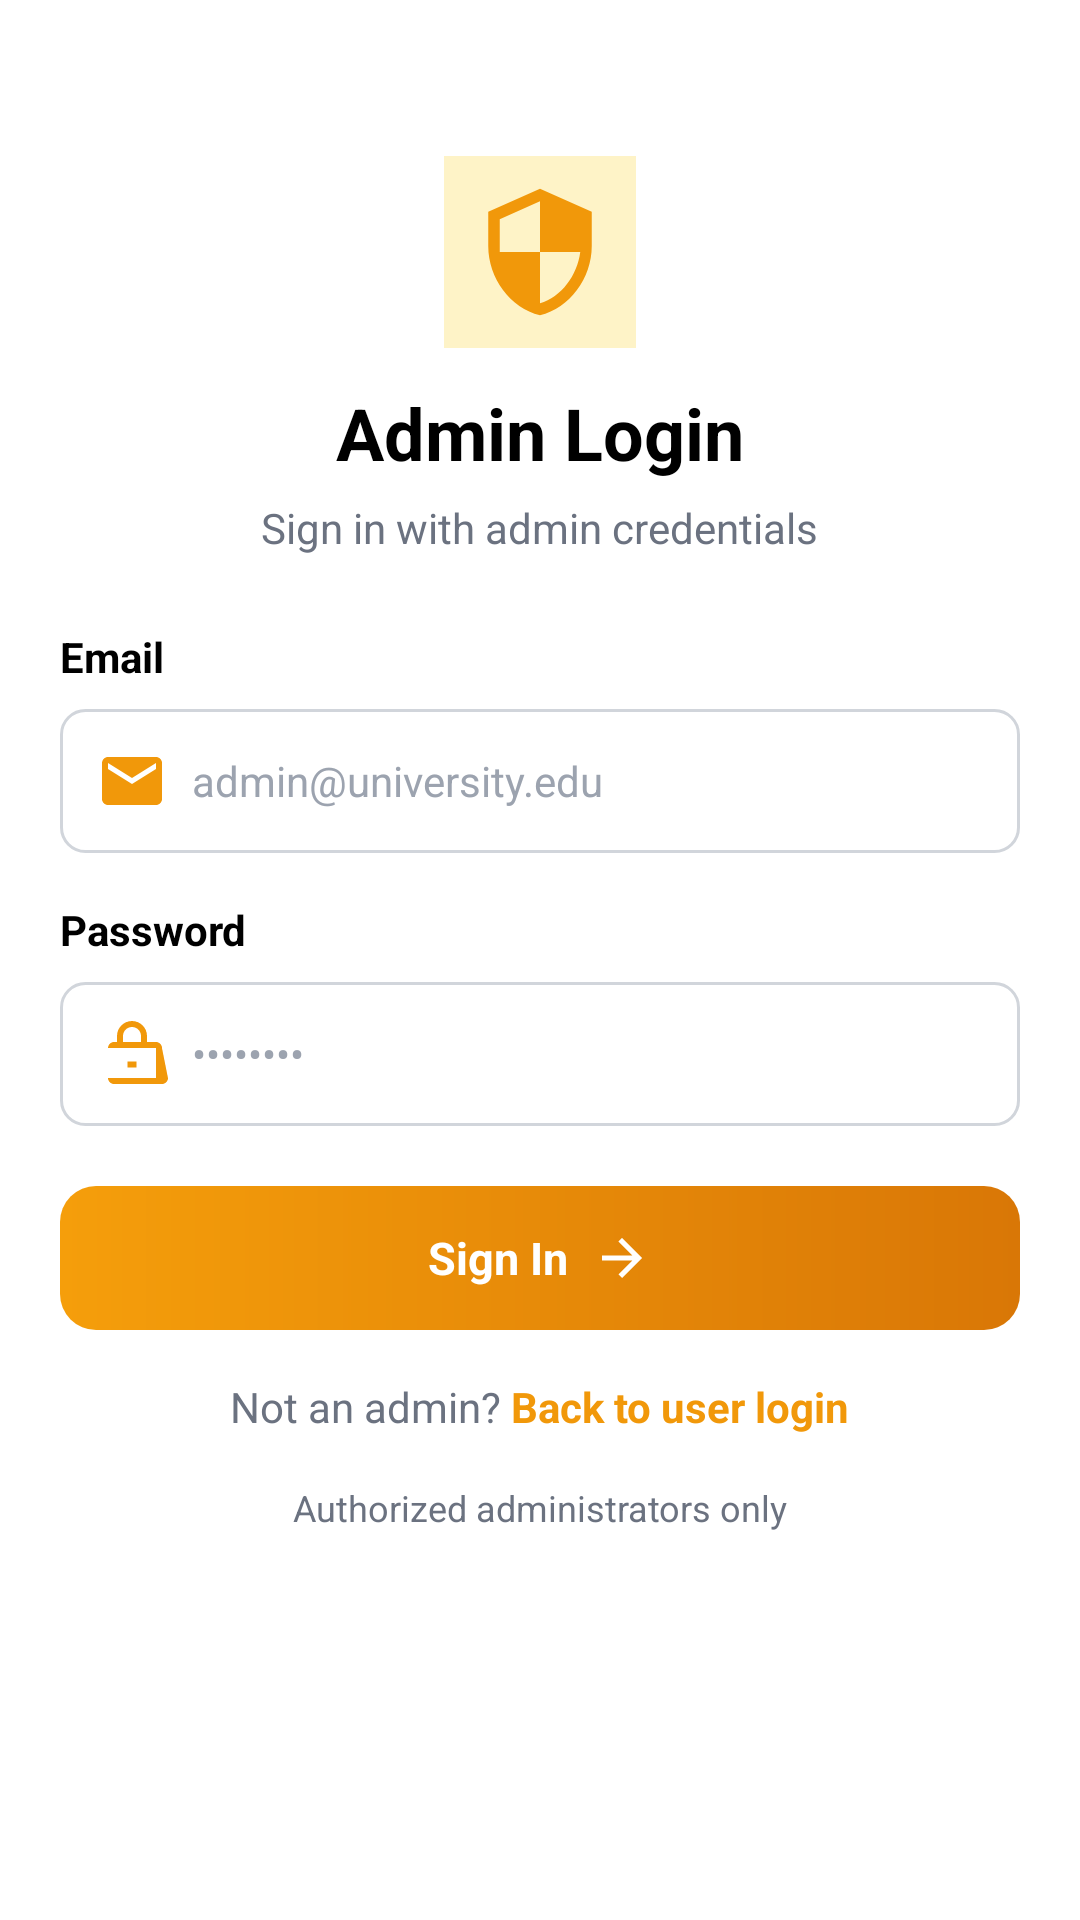

Icon bounding boxes for this 1080px×1920px phone screenshot, format box=[x1, y1, x2, y2]:
admin shield: box=[488, 189, 592, 315]
arrow forward: box=[602, 1238, 642, 1278]
lock: box=[108, 1021, 168, 1084]
